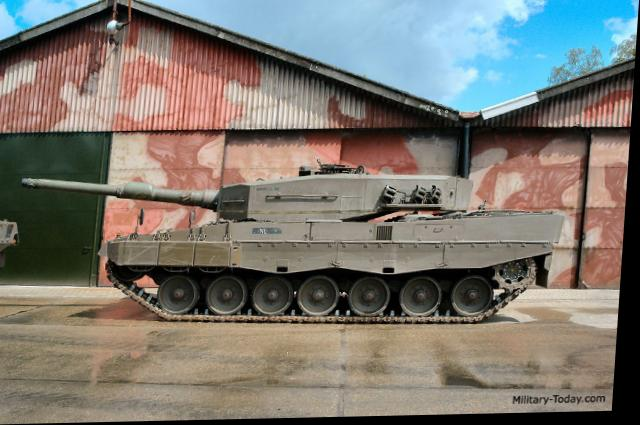tank: (95, 148, 568, 341)
